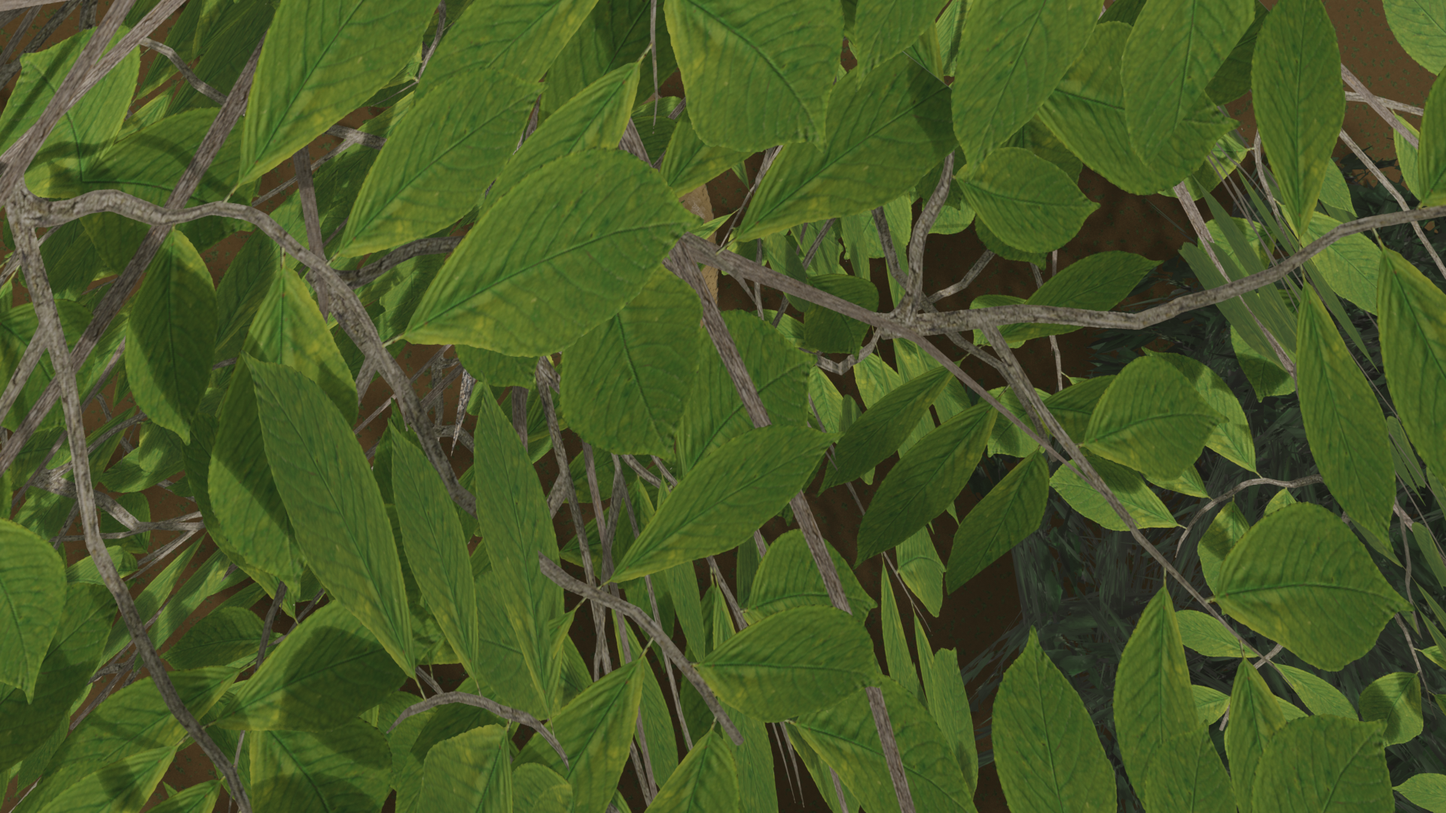pangolin: (600, 49, 753, 401)
